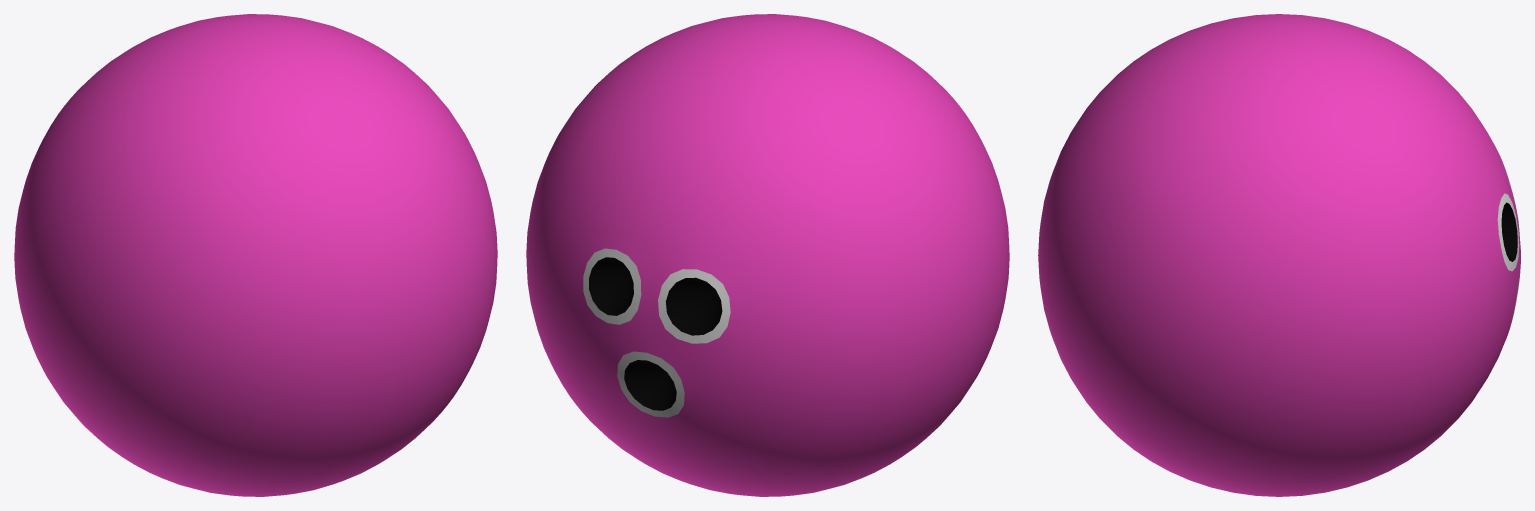
The model's file is bBall.fbx.
3 renders of one model, left to right at view 1: azimuth 30°, elevation 25°; view 2: azimuth 150°, elevation 25°; view 3: azimuth 270°, elevation 25°, orthographic.
Visible parts, largest first — view 1: Bowling-ball; view 2: Bowling-ball; view 3: Bowling-ball.
Boxes of the visible parts, x1=… form: Bowling-ball: x1=14, y1=14, x2=497, y2=496; Bowling-ball: x1=526, y1=14, x2=1009, y2=496; Bowling-ball: x1=1038, y1=14, x2=1520, y2=496.
Bounding box in the file's own units: 4.8 × 4.8 × 4.81.
